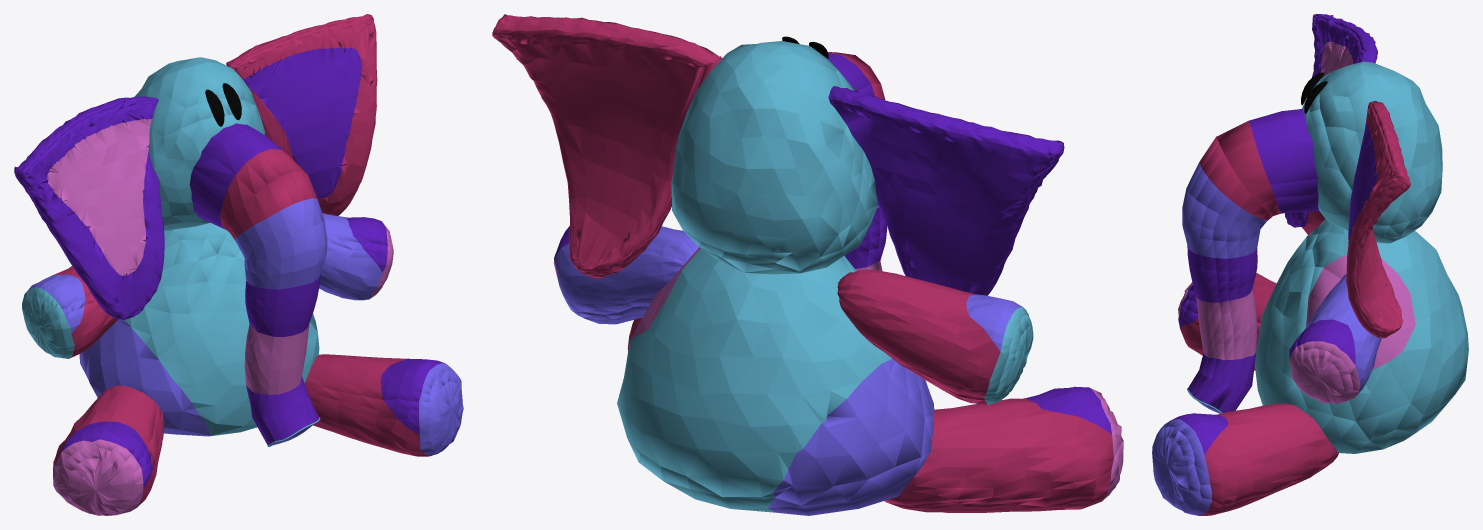
Rendered from elephentdoll.fbx.
3 renders of one model, left to right at view 1: azimuth 30°, elevation 25°; view 2: azimuth 150°, elevation 25°; view 3: azimuth 270°, elevation 25°, orthographic. The views are drawn at different scales.
Visible parts, largest first — view 1: GeoSphere04.004, GeoSphere04.002, GeoSphere04.003, GeoSphere04.005, GeoSphere04.006; view 2: GeoSphere04.002, GeoSphere04.003, GeoSphere04.004, GeoSphere04.005, GeoSphere04.006; view 3: GeoSphere04.002, GeoSphere04.003, GeoSphere04.004, GeoSphere04.005, GeoSphere04.006.
Boxes of the visible parts, x1,y1,x2,y2 form: GeoSphere04.004: (14,47,445,490); GeoSphere04.002: (22,57,320,446); GeoSphere04.003: (53,14,427,507); GeoSphere04.005: (27,198,463,456); GeoSphere04.006: (47,119,393,515); GeoSphere04.002: (617,41,1033,512); GeoSphere04.003: (492,14,1113,512); GeoSphere04.004: (554,52,1111,434); GeoSphere04.005: (554,204,1022,515); GeoSphere04.006: (553,247,1123,500); GeoSphere04.002: (1187,61,1468,453); GeoSphere04.003: (1180,101,1410,515); GeoSphere04.004: (1171,14,1377,454); GeoSphere04.005: (1152,162,1381,515); GeoSphere04.006: (1178,41,1415,403).
Bounding box in the file's own units: 8.73 × 7.63 × 5.92.
